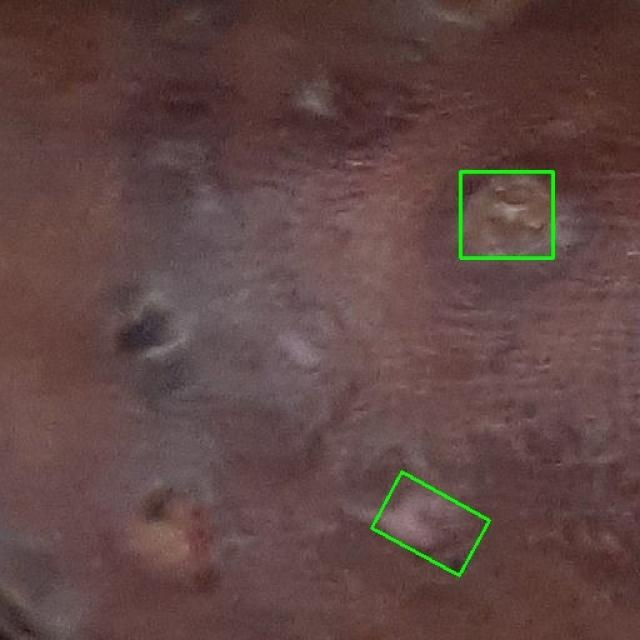Eczema: (371, 472, 490, 576), (460, 171, 552, 258)
